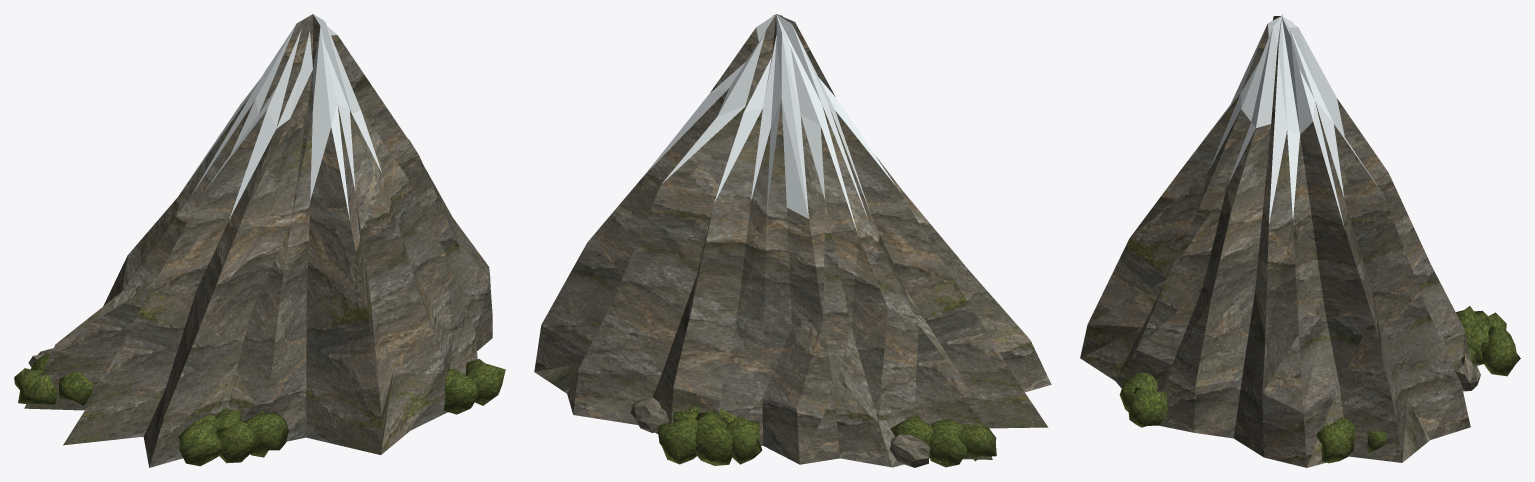
File: mountain_snow_a.gltf
3 views of the same model, side by side, from view 1: azimuth 30°, elevation 25°; view 2: azimuth 150°, elevation 25°; view 3: azimuth 270°, elevation 25° (orthographic).
Parts seen in each view (by area): view 1: mountain_snow_a_game; view 2: mountain_snow_a_game; view 3: mountain_snow_a_game.
Boxes of the visible parts, left/top/right/bottom form: mountain_snow_a_game: left=14, top=14, right=505, bottom=467; mountain_snow_a_game: left=534, top=14, right=1051, bottom=467; mountain_snow_a_game: left=1080, top=14, right=1520, bottom=467.
Bounding box in the file's own units: 1.66 × 1.28 × 1.4.
Materials: 3 (2 with a texture image).
